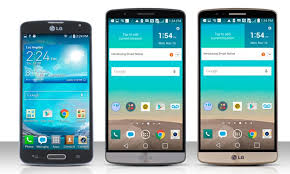lg: (102, 5, 189, 167), (194, 5, 281, 167), (16, 19, 95, 169)
